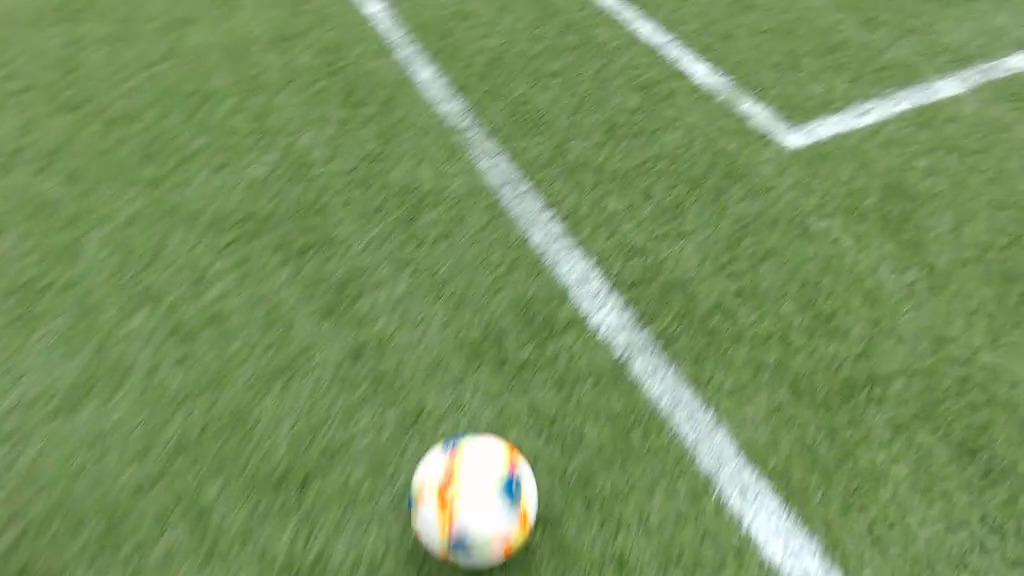ball: (408, 433, 537, 568)
